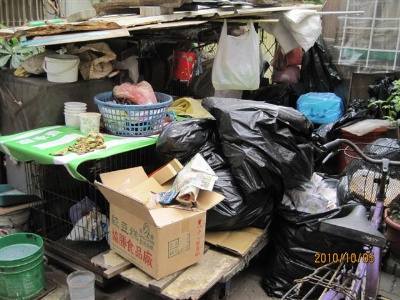bowl: (79, 112, 101, 133), (62, 113, 79, 130)
box: (98, 169, 224, 279), (148, 157, 184, 185)
bucket: (1, 231, 45, 300), (43, 53, 80, 83), (66, 270, 94, 300)
plastic_bag: (217, 102, 313, 191), (211, 21, 261, 90), (303, 39, 343, 91), (155, 122, 206, 160), (295, 92, 343, 123), (170, 97, 204, 117)
